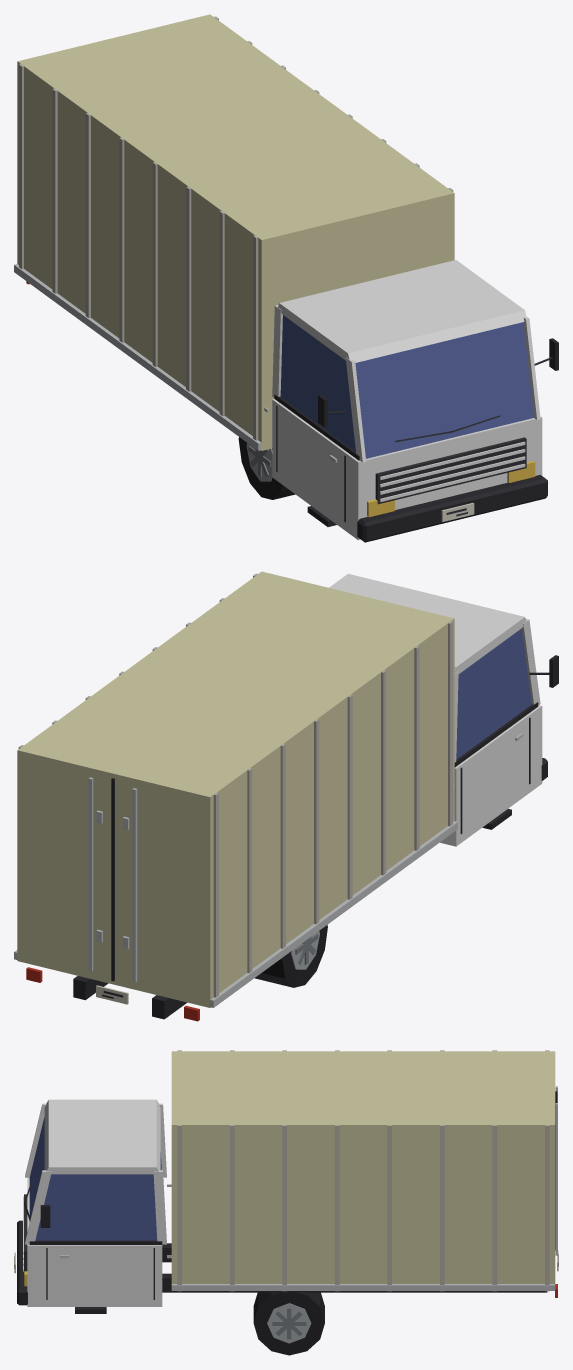
The model's file is box_truck.glb.
3 views of the same model, one above another, from view 1: azimuth 30°, elevation 25°; view 2: azimuth 150°, elevation 25°; view 3: azimuth 270°, elevation 25° (orthographic). The views are drawn at different scales.
Visible parts, largest first — view 1: body, paint, wheel1, lights; view 2: body, paint, wheel1; view 3: body, paint, wheel1.
Part boxes in pixels (box(x1,y1,x2,y2)): body: box(14, 14, 558, 542); paint: box(272, 260, 542, 540); wheel1: box(238, 437, 289, 499); lights: box(26, 281, 535, 517); body: box(14, 571, 558, 1019); paint: box(329, 573, 542, 846); wheel1: box(255, 925, 327, 987); body: box(14, 1050, 558, 1313); paint: box(23, 1099, 166, 1306); wheel1: box(253, 1292, 324, 1355).
Size of the model in its own units: 2.68 by 3.6 by 6.86.
